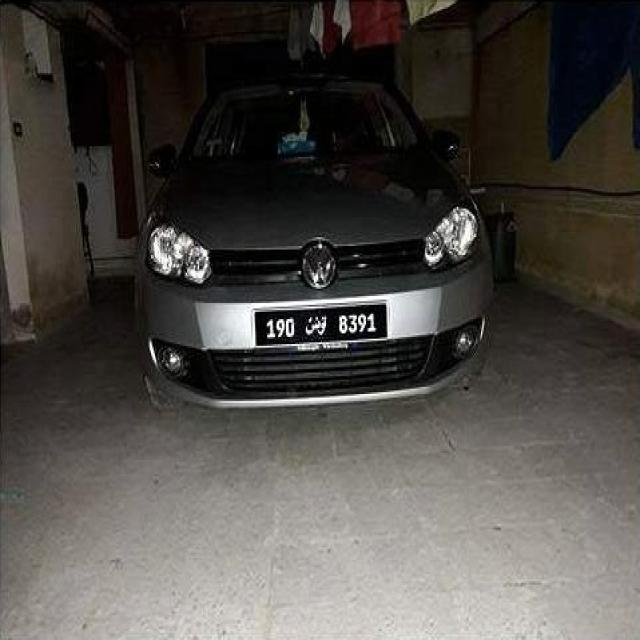licence plate: (255, 305, 386, 345)
